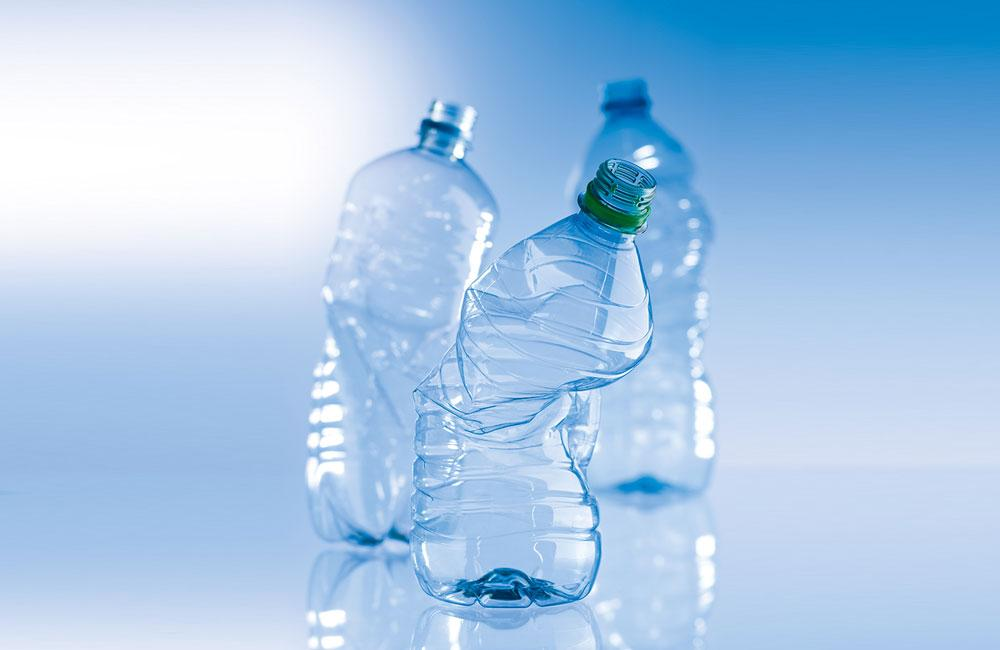plastic: (306, 80, 716, 649)
